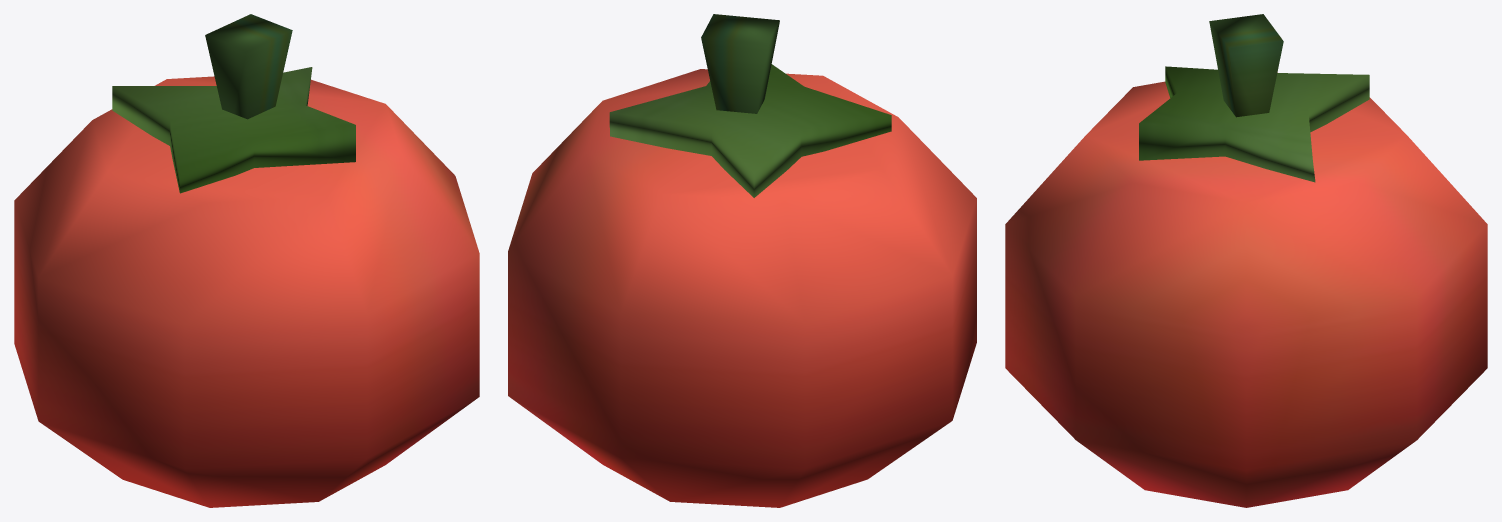
Rendered from tomato.glb.
3 renders of one model, left to right at view 1: azimuth 30°, elevation 25°; view 2: azimuth 150°, elevation 25°; view 3: azimuth 270°, elevation 25°, orthographic.
Visible parts, largest first — view 1: tomato; view 2: tomato; view 3: tomato.
Boxes of the visible parts, x1,y1,x2,y2 form: tomato: [14, 14, 479, 507]; tomato: [508, 14, 976, 507]; tomato: [1005, 14, 1487, 507].
Bounding box in the file's own units: 0.2096 × 0.2 × 0.2096.
1 material, 1 textured.
